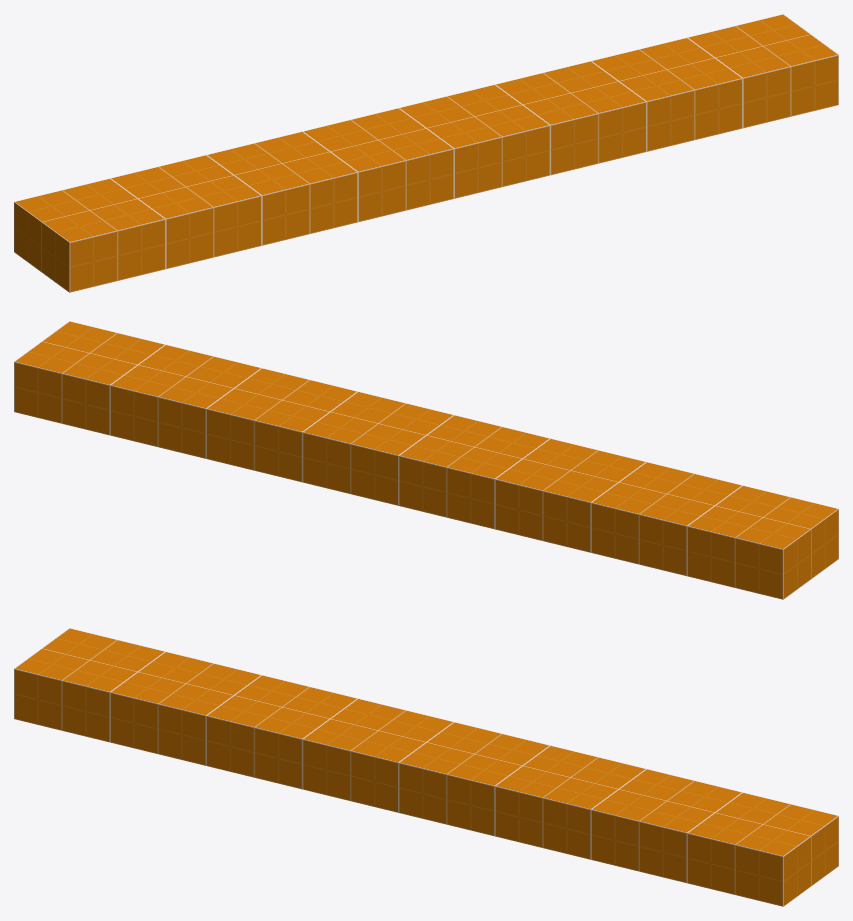
File: Plate2_8x1.obj
The picture shows the model from 3 angles, top to bottom: view 1: azimuth 30°, elevation 25°; view 2: azimuth 150°, elevation 25°; view 3: azimuth 330°, elevation 25°; orthographic projection.
Parts seen in each view (by area): view 1: Plate2_8x1_Cube.302; view 2: Plate2_8x1_Cube.302; view 3: Plate2_8x1_Cube.302.
Part boxes in pixels (<box>): Plate2_8x1_Cube.302: <box>14,14,838,292</box>; Plate2_8x1_Cube.302: <box>14,321,838,599</box>; Plate2_8x1_Cube.302: <box>14,628,838,906</box>.
Bounding box in the file's own units: 8 × 0.5 × 1.
Materials: 1 (1 with a texture image).
